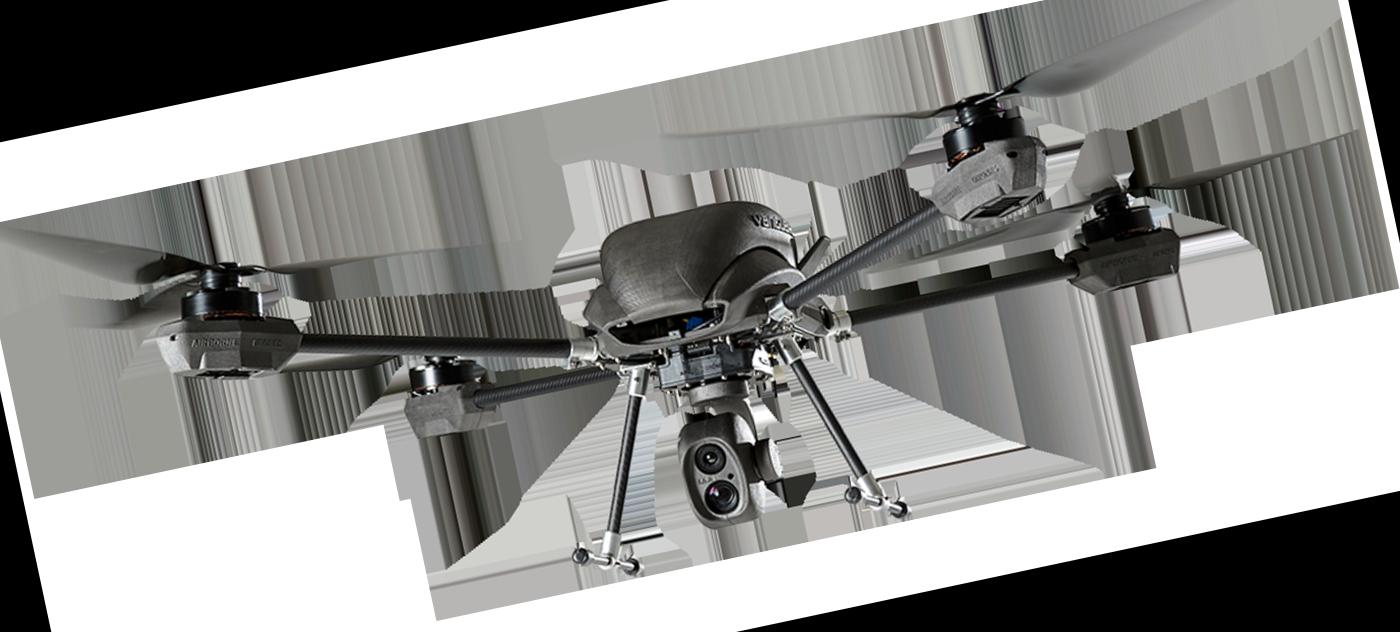drone: (0, 0, 1367, 586)
